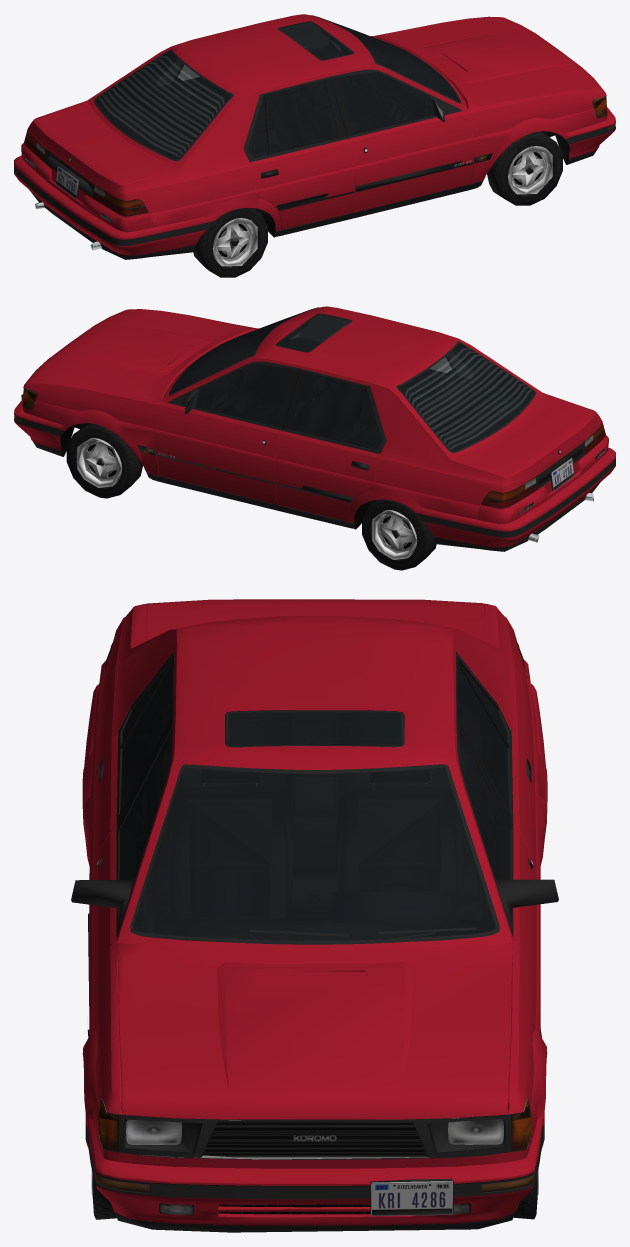
The model's file is car_kiri.glb.
The picture shows the model from 3 angles, top to bottom: view 1: azimuth 30°, elevation 25°; view 2: azimuth 150°, elevation 25°; view 3: azimuth 270°, elevation 25°; orthographic projection. The views are drawn at different scales.
Parts seen in each view (by area): view 1: kiri86_Body_kiri86_Bodymat_0, kiri86_Headlights_Glass_UCB_Lights_and_Glass_Transperent_0, kiri86_Interior_UCB_Interior_Trim_0, kiri86_Bottom_UCB_BOTTOM_GT_0, kiri86_Wheel_FL_RB1c_Tire_1k_0, kiri86_Headlights_UCB_Lights_and_Glass_0, kiri86_Numberplates_Rear_Numberplates_Misk_U_0; view 2: kiri86_Body_kiri86_Bodymat_0, kiri86_Headlights_Glass_UCB_Lights_and_Glass_Transperent_0, kiri86_Interior_UCB_Interior_Trim_0, kiri86_Bottom_UCB_BOTTOM_GT_0, kiri86_Wheel_FL_RB1c_Tire_1k_0, kiri86_Headlights_UCB_Lights_and_Glass_0, kiri86_Numberplates_Rear_Numberplates_Misk_U_0; view 3: kiri86_Body_kiri86_Bodymat_0, kiri86_Headlights_Glass_UCB_Lights_and_Glass_Transperent_0, kiri86_Interior_UCB_Interior_Trim_0, kiri86_Bottom_UCB_BOTTOM_GT_0, kiri86_Headlights_UCB_Lights_and_Glass_0, kiri86_Numberplates_Rear_Numberplates_Misk_U_0, kiri86_Wheel_FL_RB1c_Tire_1k_0.
Part boxes in pixels (box(x1,y1,x2,y2)): kiri86_Body_kiri86_Bodymat_0: box(14, 14, 615, 255); kiri86_Headlights_Glass_UCB_Lights_and_Glass_Transperent_0: box(24, 15, 607, 216); kiri86_Interior_UCB_Interior_Trim_0: box(96, 21, 458, 158); kiri86_Bottom_UCB_BOTTOM_GT_0: box(14, 15, 615, 259); kiri86_Wheel_FL_RB1c_Tire_1k_0: box(193, 131, 562, 277); kiri86_Headlights_UCB_Lights_and_Glass_0: box(25, 96, 606, 214); kiri86_Numberplates_Rear_Numberplates_Misk_U_0: box(56, 166, 78, 198); kiri86_Body_kiri86_Bodymat_0: box(14, 306, 615, 547); kiri86_Headlights_Glass_UCB_Lights_and_Glass_Transperent_0: box(22, 307, 605, 508); kiri86_Interior_UCB_Interior_Trim_0: box(171, 311, 533, 450); kiri86_Bottom_UCB_BOTTOM_GT_0: box(14, 307, 615, 551); kiri86_Wheel_FL_RB1c_Tire_1k_0: box(66, 423, 436, 570); kiri86_Headlights_UCB_Lights_and_Glass_0: box(23, 388, 604, 506); kiri86_Numberplates_Rear_Numberplates_Misk_U_0: box(21, 394, 573, 490); kiri86_Body_kiri86_Bodymat_0: box(82, 599, 547, 1225); kiri86_Headlights_Glass_UCB_Lights_and_Glass_Transperent_0: box(98, 631, 531, 1151); kiri86_Interior_UCB_Interior_Trim_0: box(121, 666, 508, 939); kiri86_Bottom_UCB_BOTTOM_GT_0: box(71, 625, 558, 1232); kiri86_Headlights_UCB_Lights_and_Glass_0: box(98, 642, 531, 1150); kiri86_Numberplates_Rear_Numberplates_Misk_U_0: box(371, 1181, 452, 1216); kiri86_Wheel_FL_RB1c_Tire_1k_0: box(91, 1169, 538, 1219).
Bounding box in the file's own units: 4.31 × 1.32 × 1.76.
Materials: 8 (7 with a texture image).
